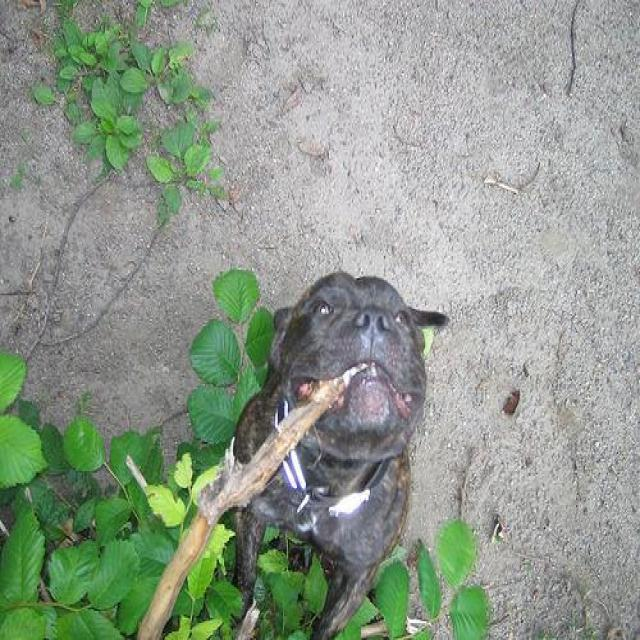staffordshire_bullterrier: (230, 266, 450, 637)
